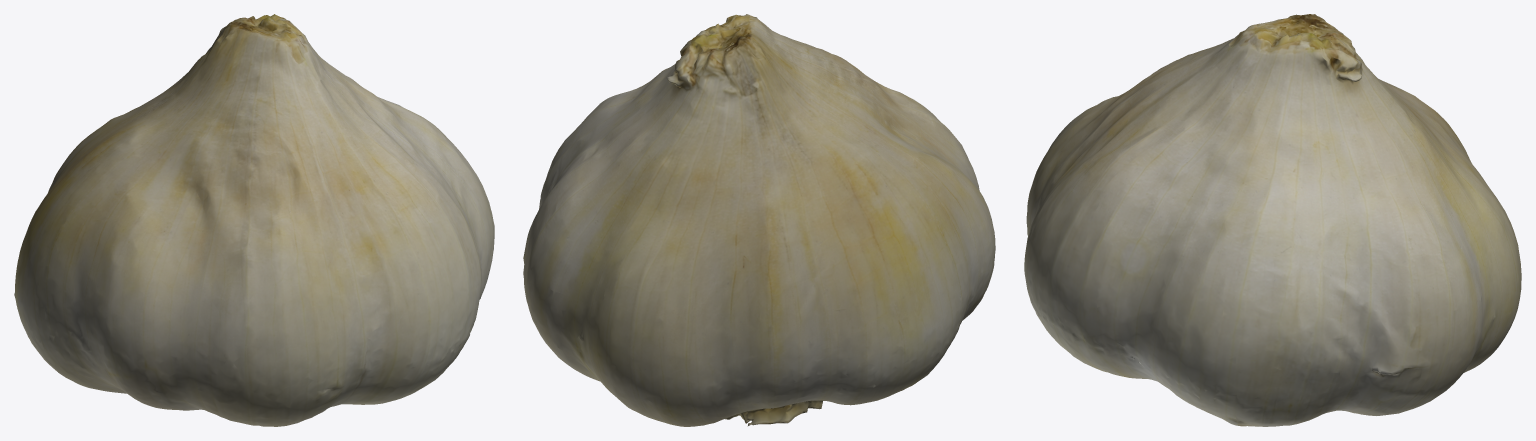
The model's file is garlic.glb.
3 views of the same model, side by side, from view 1: azimuth 30°, elevation 25°; view 2: azimuth 150°, elevation 25°; view 3: azimuth 270°, elevation 25° (orthographic). The views are drawn at different scales.
Visible parts, largest first — view 1: Object_3; view 2: Object_3; view 3: Object_3.
Part boxes in pixels (x1,y1,x2,y2): Object_3: [14, 14, 494, 426]; Object_3: [523, 14, 995, 426]; Object_3: [1024, 14, 1521, 426].
Bounding box in the file's own units: 1.8 × 1.49 × 1.79.
Materials: 1 (1 with a texture image).
